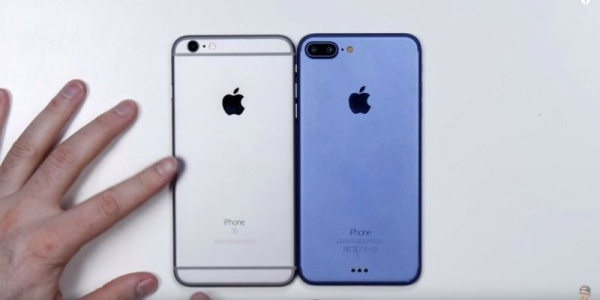apple: (341, 79, 384, 136), (220, 76, 258, 130)
